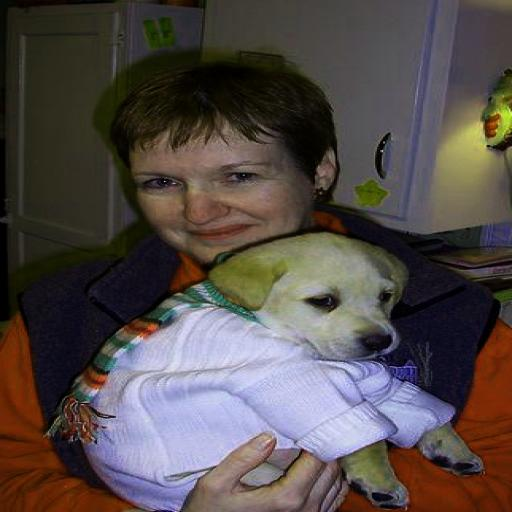dog_face: (220, 228, 399, 362)
